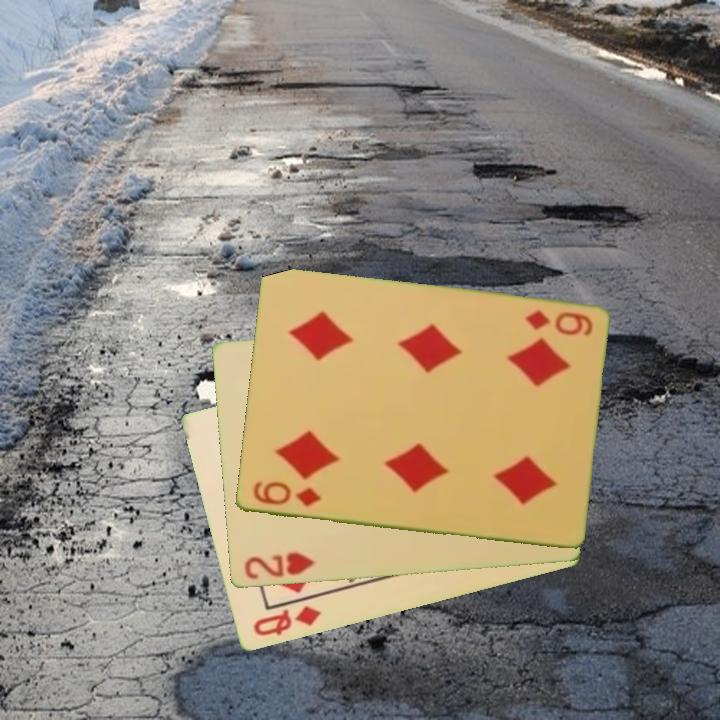2h: (240, 549, 318, 583)
6d: (520, 307, 595, 339), (249, 478, 323, 510)
Qd: (249, 603, 324, 640)
